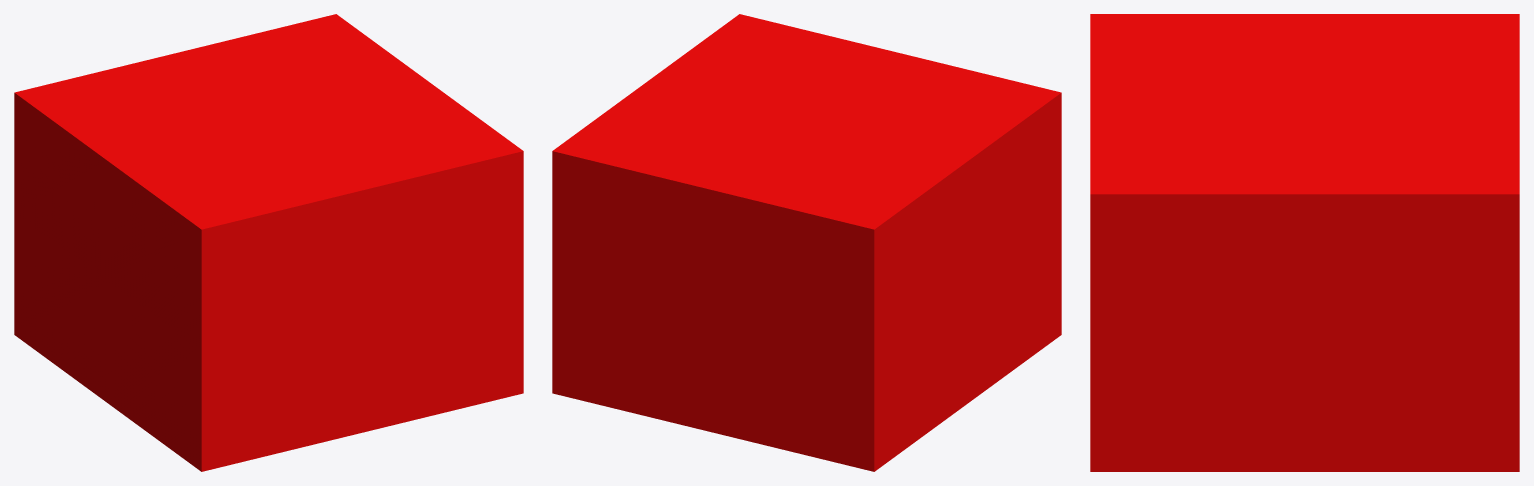
The model's file is index_medial_rvs_col.dae.
The picture shows the model from 3 angles, left to right: view 1: azimuth 30°, elevation 25°; view 2: azimuth 150°, elevation 25°; view 3: azimuth 270°, elevation 25°; orthographic projection. The views are drawn at different scales.
Visible parts, largest first — view 1: node0; view 2: node0; view 3: node0.
Boxes of the visible parts, left/top/right/bottom form: node0: left=14, top=14, right=523, bottom=471; node0: left=552, top=14, right=1061, bottom=471; node0: left=1090, top=14, right=1519, bottom=471.
Size of the model in its own units: 0.0216 by 0.0155 by 0.0217.
